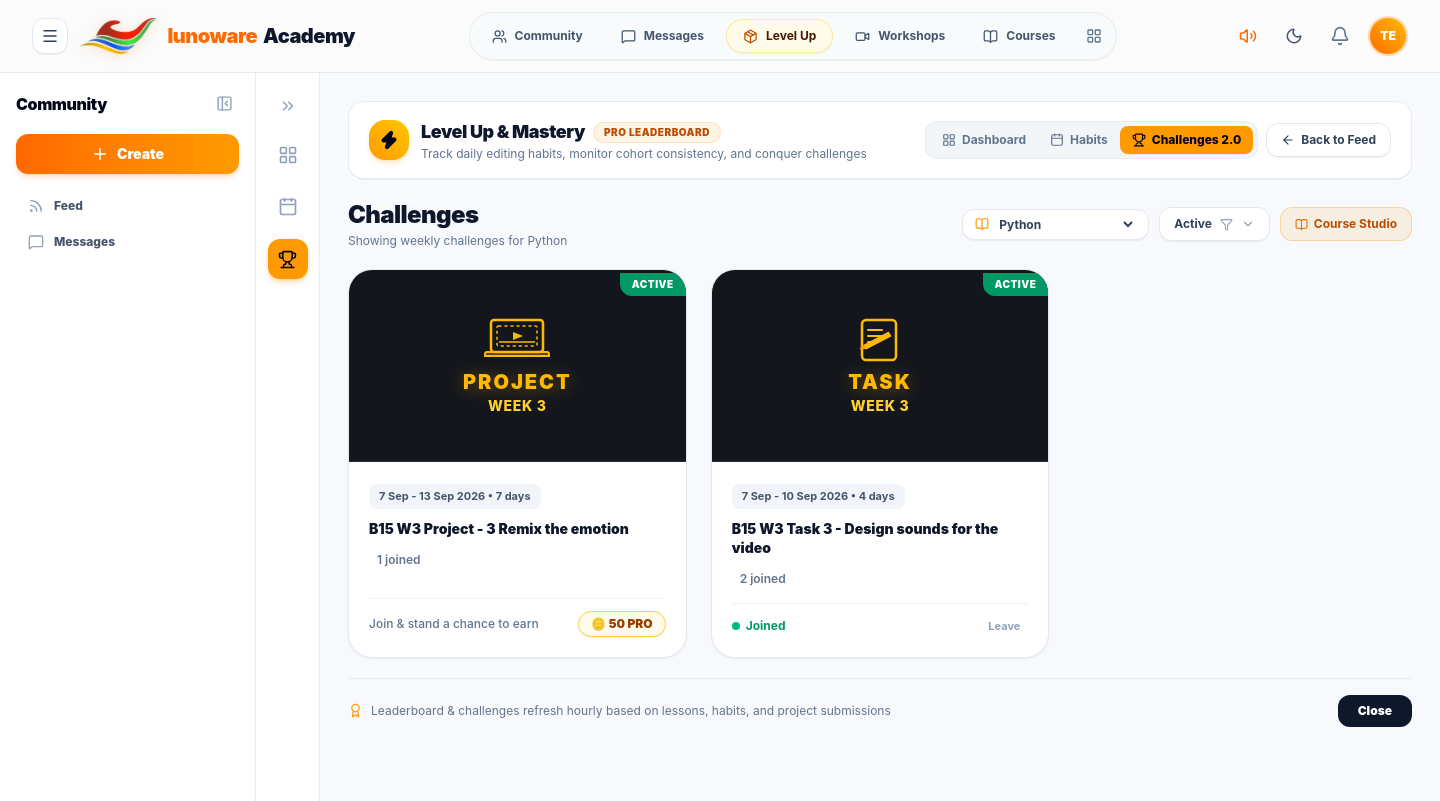
CommunityHub & Components › opens Challenge Detail page with creative brief, assets, and submission form when clicking a challenge card
# Click on the project challenge card (which is yet to be joined)
Click the heading "B15 W3 Project - 3 Remix the emotion": [517, 528] box [369, 518, 666, 538]
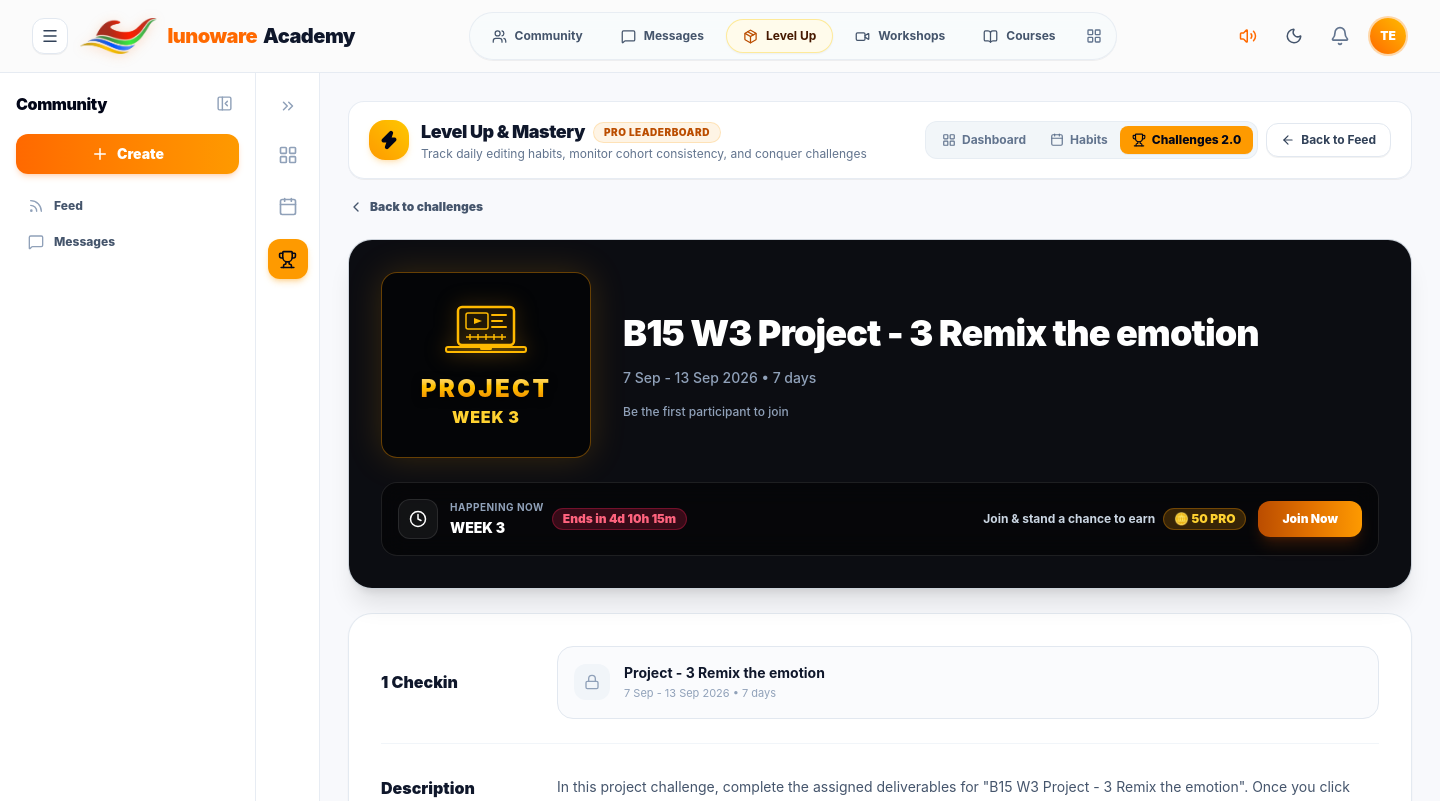
Result: the button with aria-label "back to challenges list" is shown at [348, 199, 483, 215]
Result: the heading "1 Checkin" is shown at [381, 672, 458, 692]
Result: the heading "Description" is shown at [381, 778, 475, 798]
# Click Join Now to unlock workspace and check-ins
Click the button "Join Now": [1310, 519] box [1258, 501, 1362, 537]
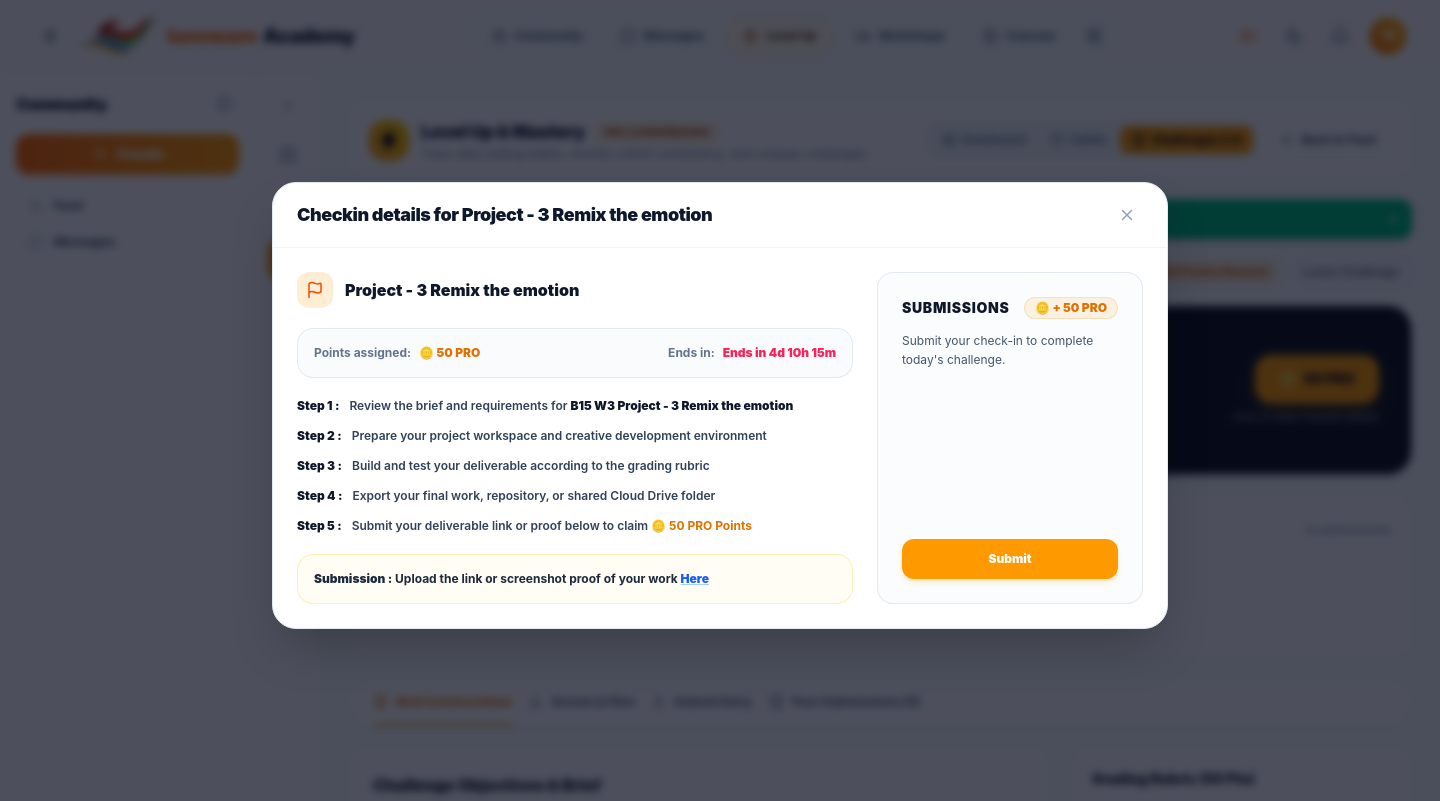
Click the button named "close modal": [1127, 214] box [1111, 198, 1143, 230]
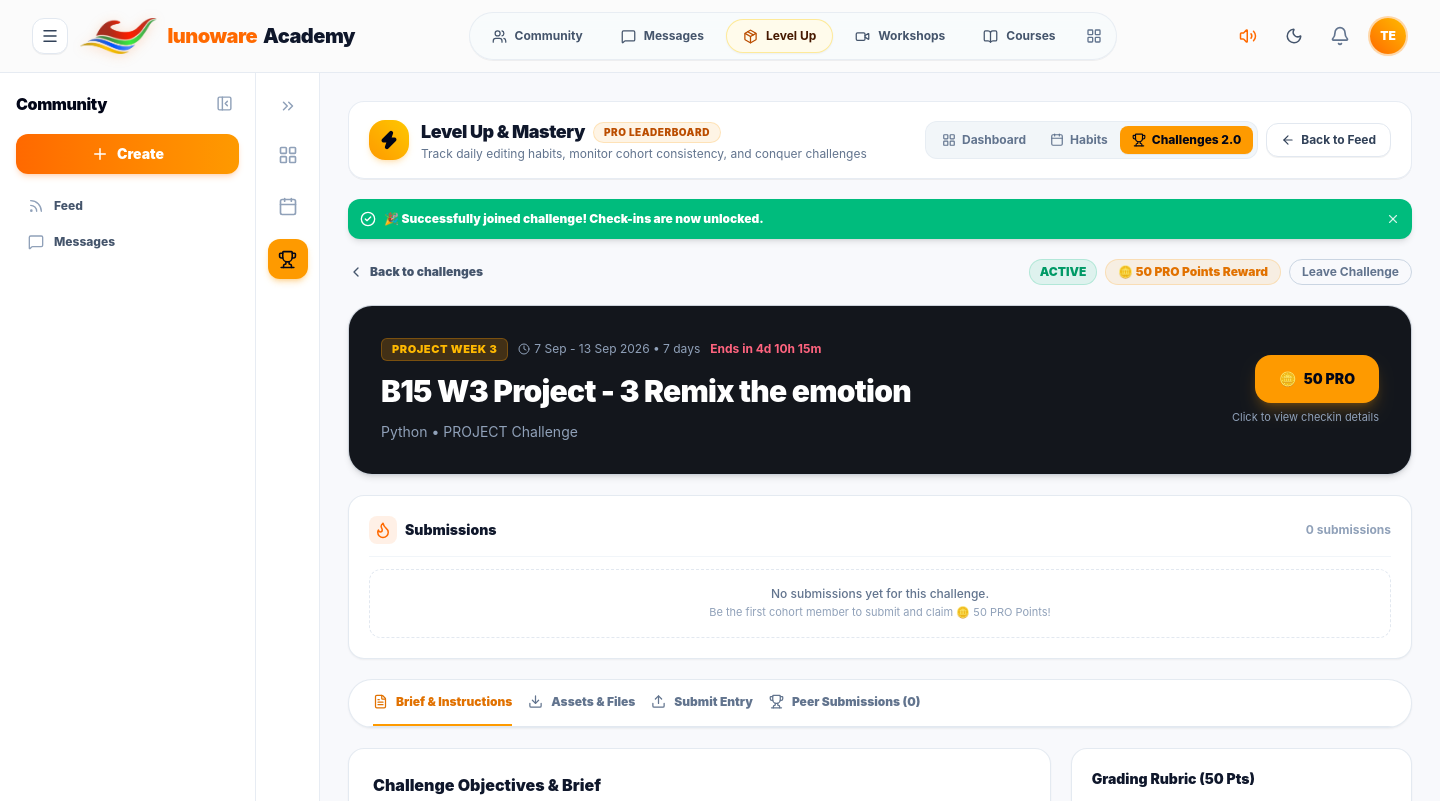
Result: the heading "Challenge Objectives & Brief" is shown at [373, 774, 601, 794]
Result: the heading "Grading Rubric (50 Pts)" is shown at [1092, 770, 1255, 786]
Result: the text "Brief & Instructions" is shown at [396, 694, 512, 710]
# Switch to Assets tab
Click the button "Assets & Files": [582, 702] box [528, 680, 635, 726]
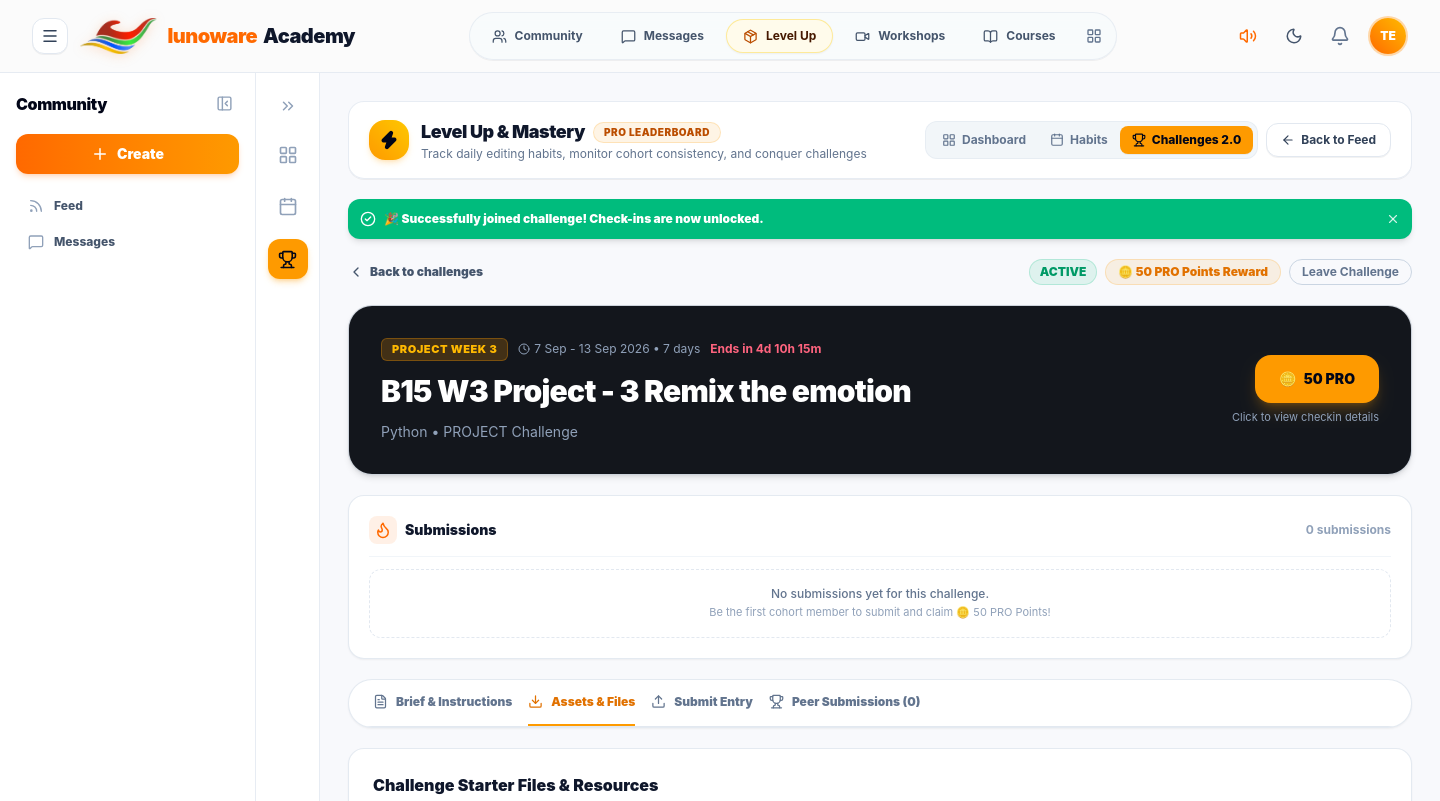
# Return back to Challenges list
Click the button with aria-label "back to challenges list": [416, 272] box [348, 264, 483, 280]
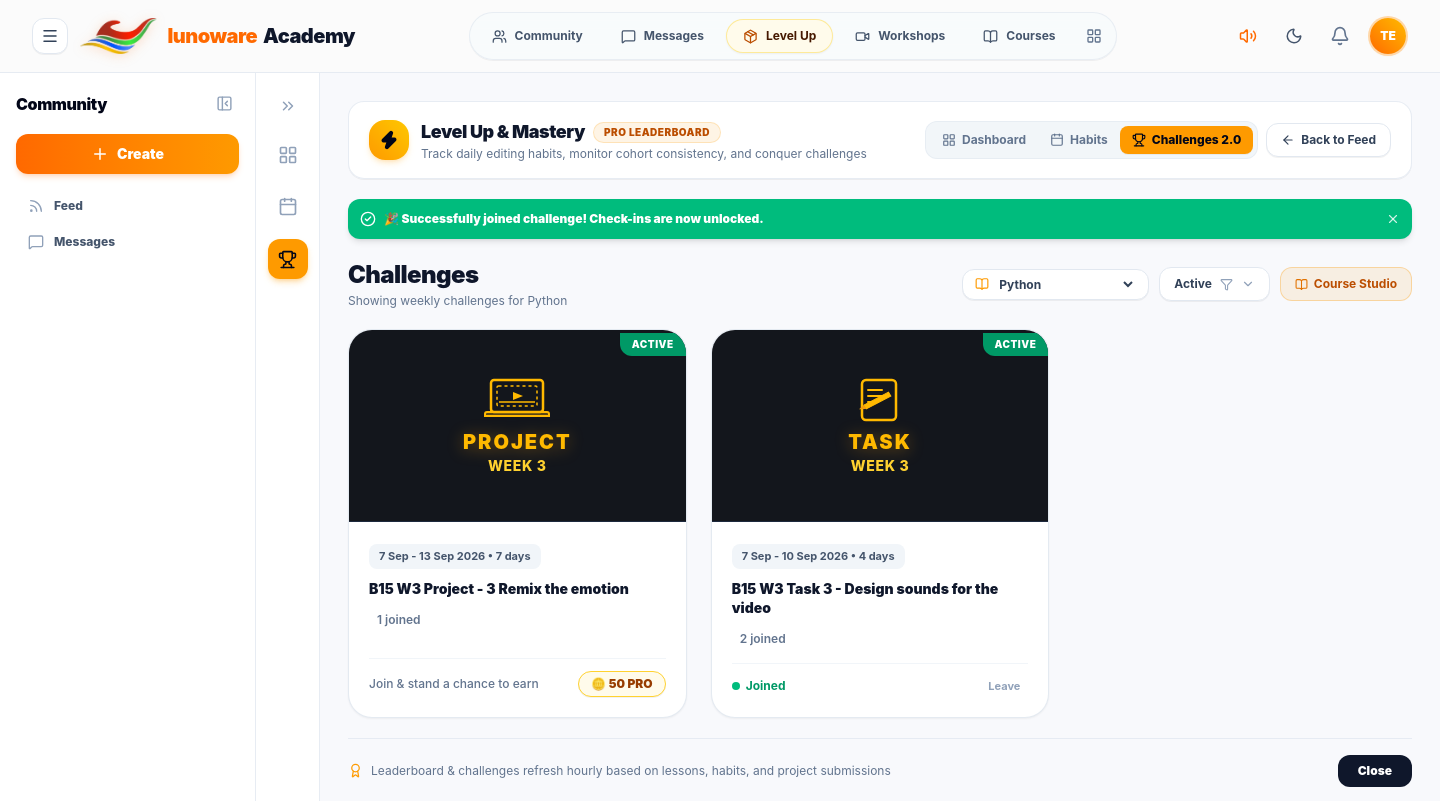
Result: the heading "Challenges" is shown at [348, 260, 478, 289]
